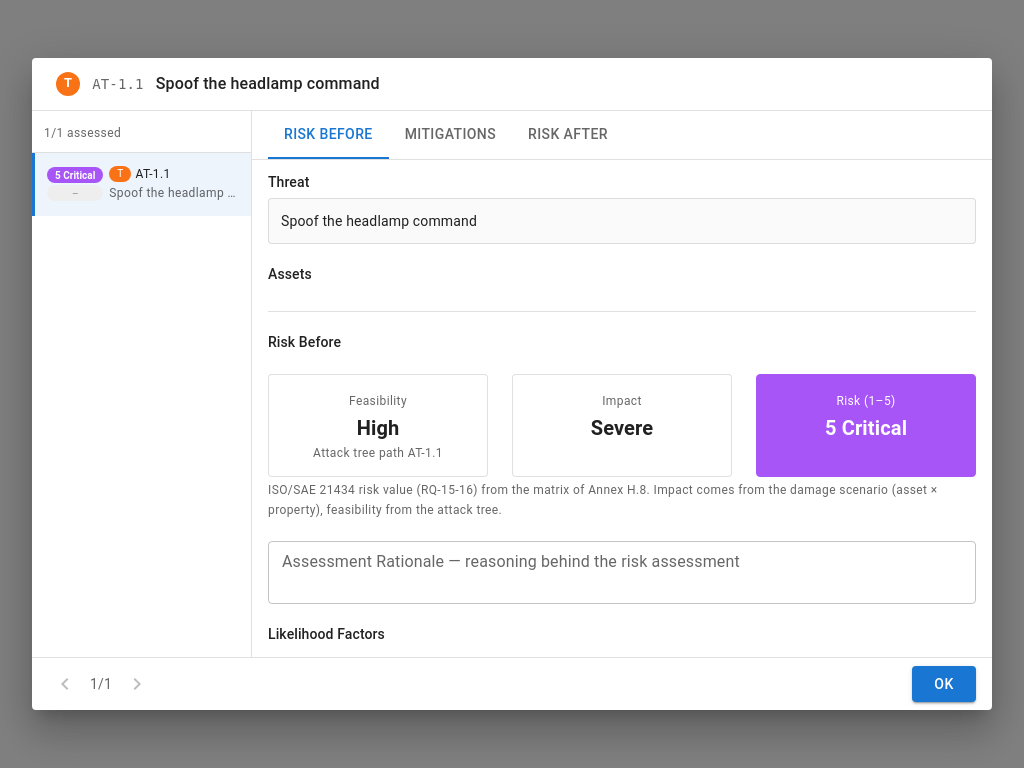
risk dialog — ISO Risk Before / After › after, no factor breakdown: the residual level is the input, 'not set' selectable
Step 1. Click the tab "Risk After" → (568, 135), box [512,111,624,159]
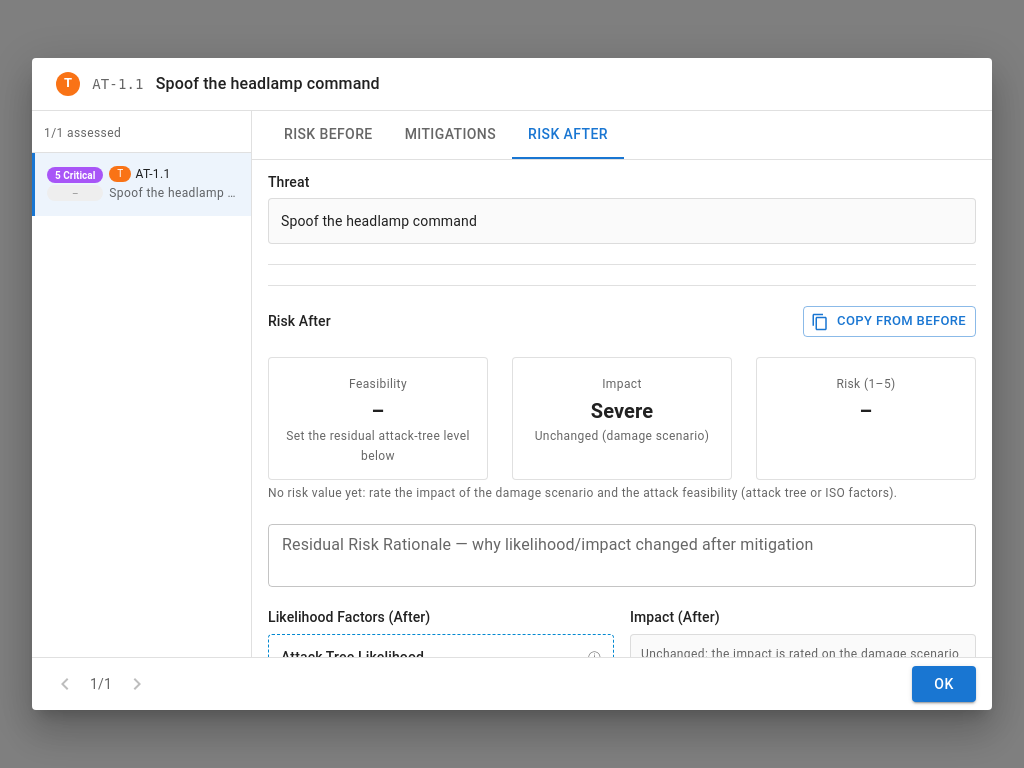
Result: the text with test id "iso-risk-panel-after-feasibility-note" reads "Set the residual attack-tree level below" at [286,429,470,463]
